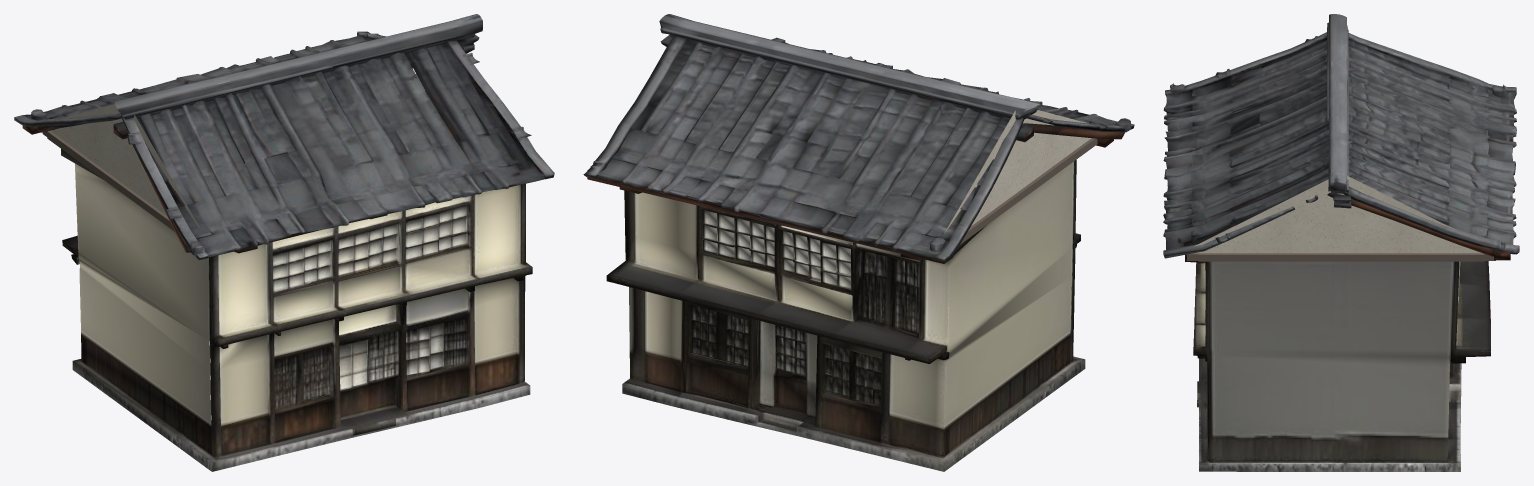
File: house_c.glb
3 views of the same model, side by side, from view 1: azimuth 30°, elevation 25°; view 2: azimuth 150°, elevation 25°; view 3: azimuth 270°, elevation 25° (orthographic). The views are drawn at different scales.
Bounding box in the file's own units: 9.4 × 7.69 × 8.23.
4 materials, 3 textured.
